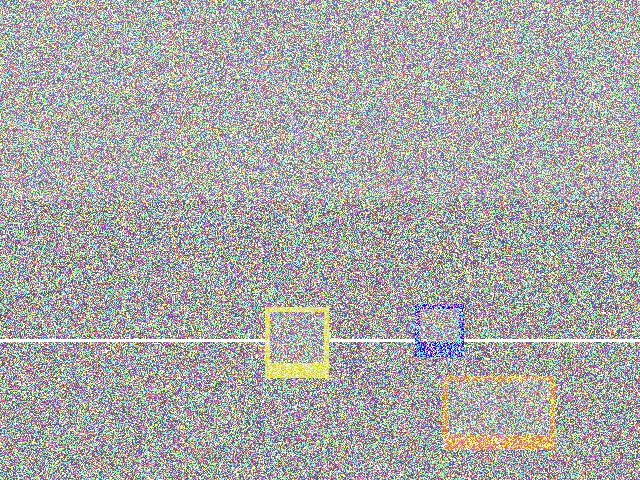bus: (394, 237, 468, 339)
motorcycle: (241, 326, 359, 454)
truck: (246, 270, 397, 411)
